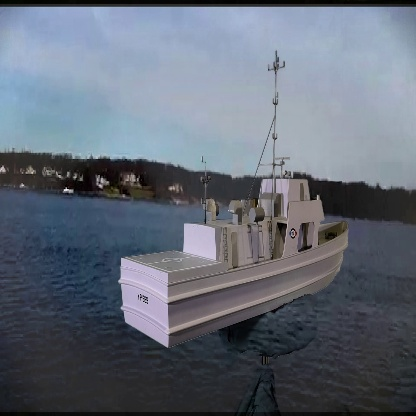YP689: (115, 49, 355, 349)
